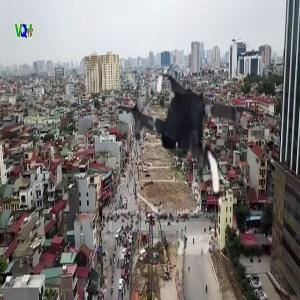drone: (102, 58, 271, 227)
